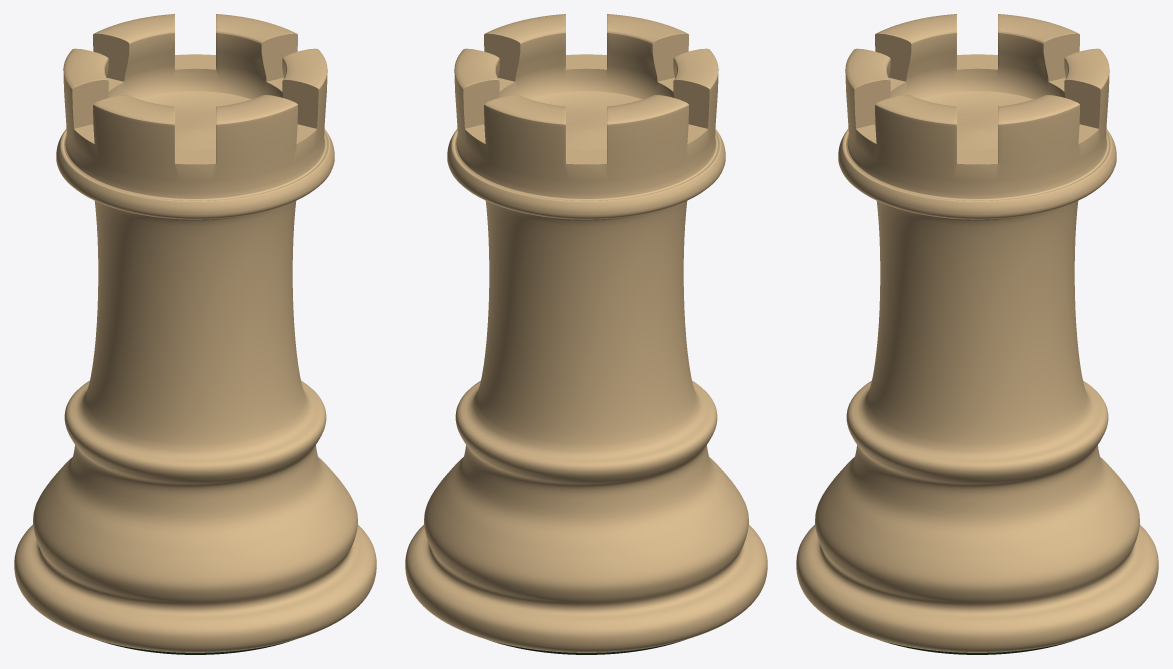
The model's file is rook.glb.
The picture shows the model from 3 angles, left to right: view 1: azimuth 30°, elevation 25°; view 2: azimuth 150°, elevation 25°; view 3: azimuth 270°, elevation 25°; orthographic projection.
Parts seen in each view (by area): view 1: Rook.002; view 2: Rook.002; view 3: Rook.002.
Boxes of the visible parts, x1,y1,x2,y2 form: Rook.002: (14,14,376,654); Rook.002: (405,14,767,654); Rook.002: (796,14,1158,654).
Size of the model in its own units: 0.0368 by 0.0587 by 0.0368.
